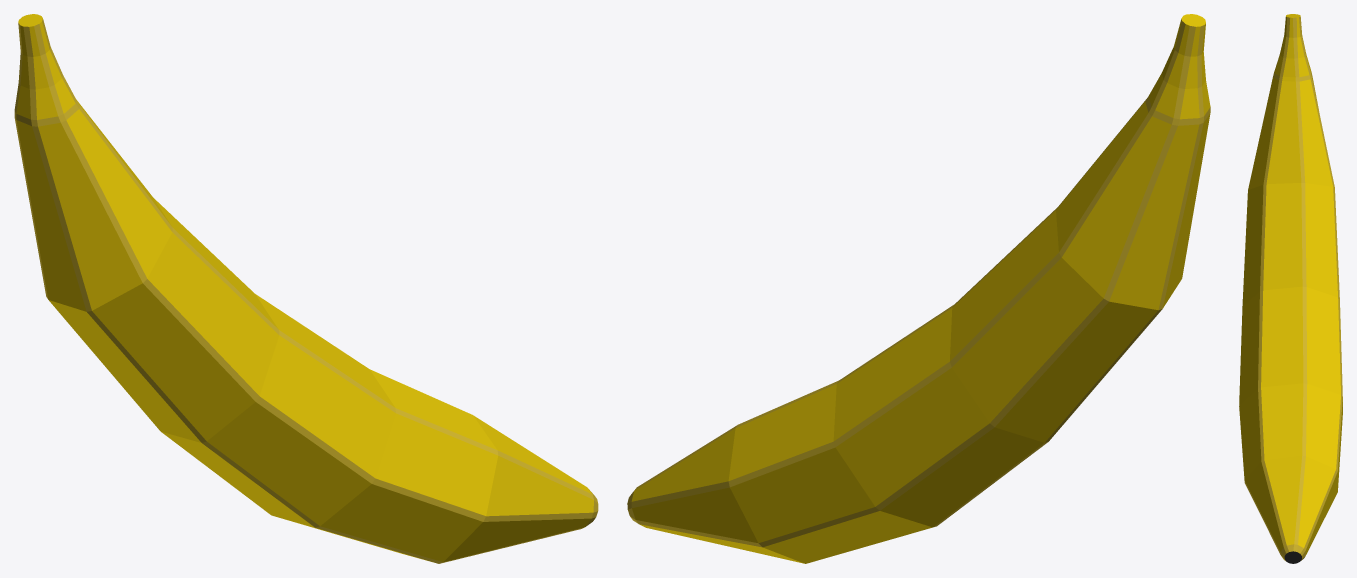
Rendered from banana.fbx.
3 renders of one model, left to right at view 1: azimuth 30°, elevation 25°; view 2: azimuth 150°, elevation 25°; view 3: azimuth 270°, elevation 25°, orthographic. The views are drawn at different scales.
Parts seen in each view (by area): view 1: Cylinder.001; view 2: Cylinder.001; view 3: Cylinder.001.
Boxes of the visible parts, x1=… form: Cylinder.001: x1=14, y1=14, x2=598, y2=563; Cylinder.001: x1=627, y1=14, x2=1210, y2=563; Cylinder.001: x1=1239, y1=14, x2=1342, y2=563.
Bounding box in the file's own units: 397 × 422 × 102.
